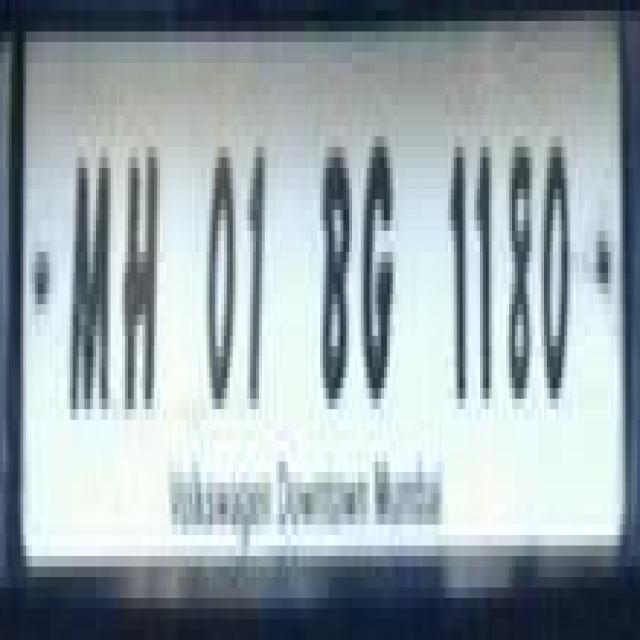license_plate: (20, 0, 640, 556)
